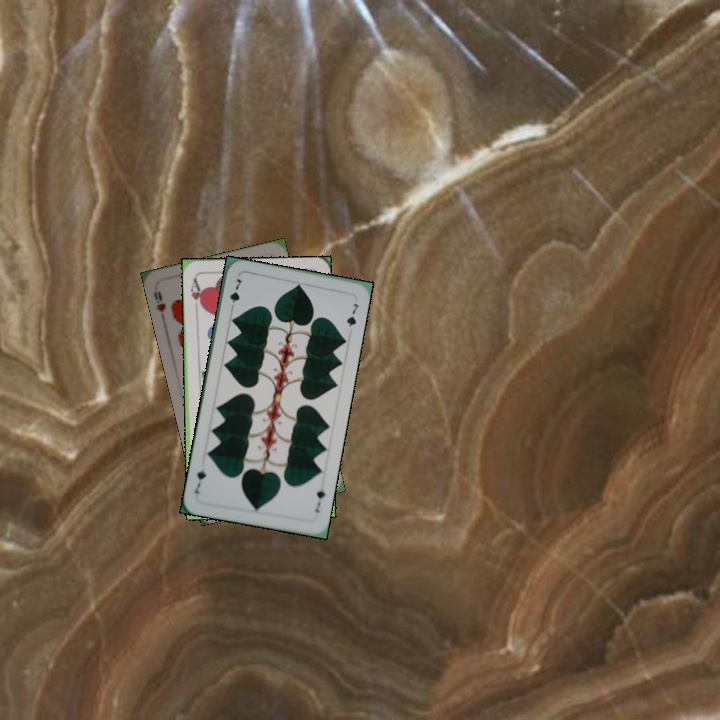G7: (225, 274, 244, 314), (311, 481, 328, 515)
H9: (149, 287, 168, 324)
HA: (186, 274, 206, 314)
